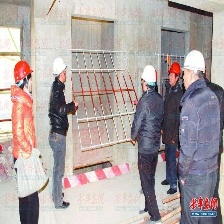helmet: (183, 49, 207, 71), (14, 60, 32, 84), (52, 58, 68, 81), (141, 65, 157, 87)
no-vest: (180, 80, 221, 175), (12, 90, 36, 155), (141, 96, 162, 152), (51, 81, 70, 134), (164, 87, 180, 143)
person: (178, 48, 218, 224), (10, 57, 46, 224), (133, 62, 163, 224), (48, 56, 76, 207), (162, 59, 182, 200)
